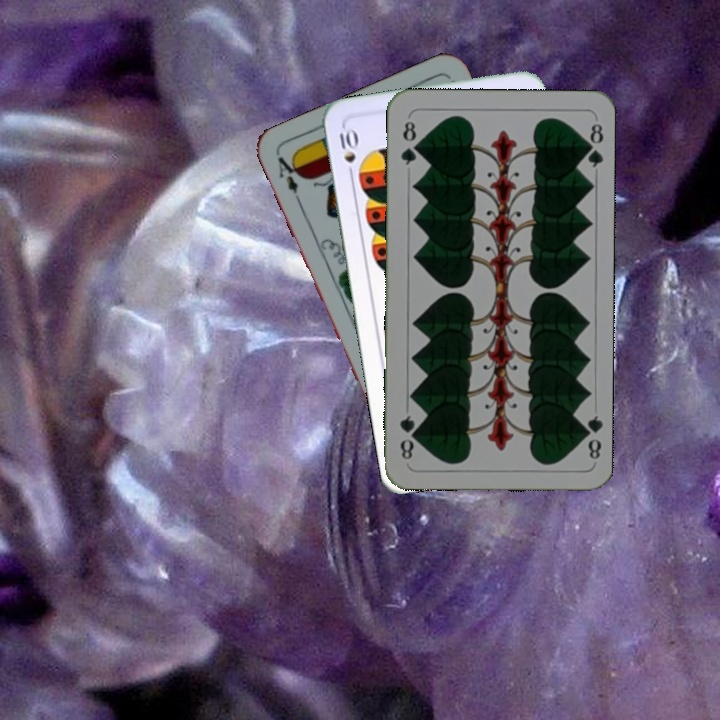EA: (273, 151, 304, 207)
G8: (577, 411, 604, 461), (396, 117, 420, 168)
S10: (335, 123, 360, 182)
